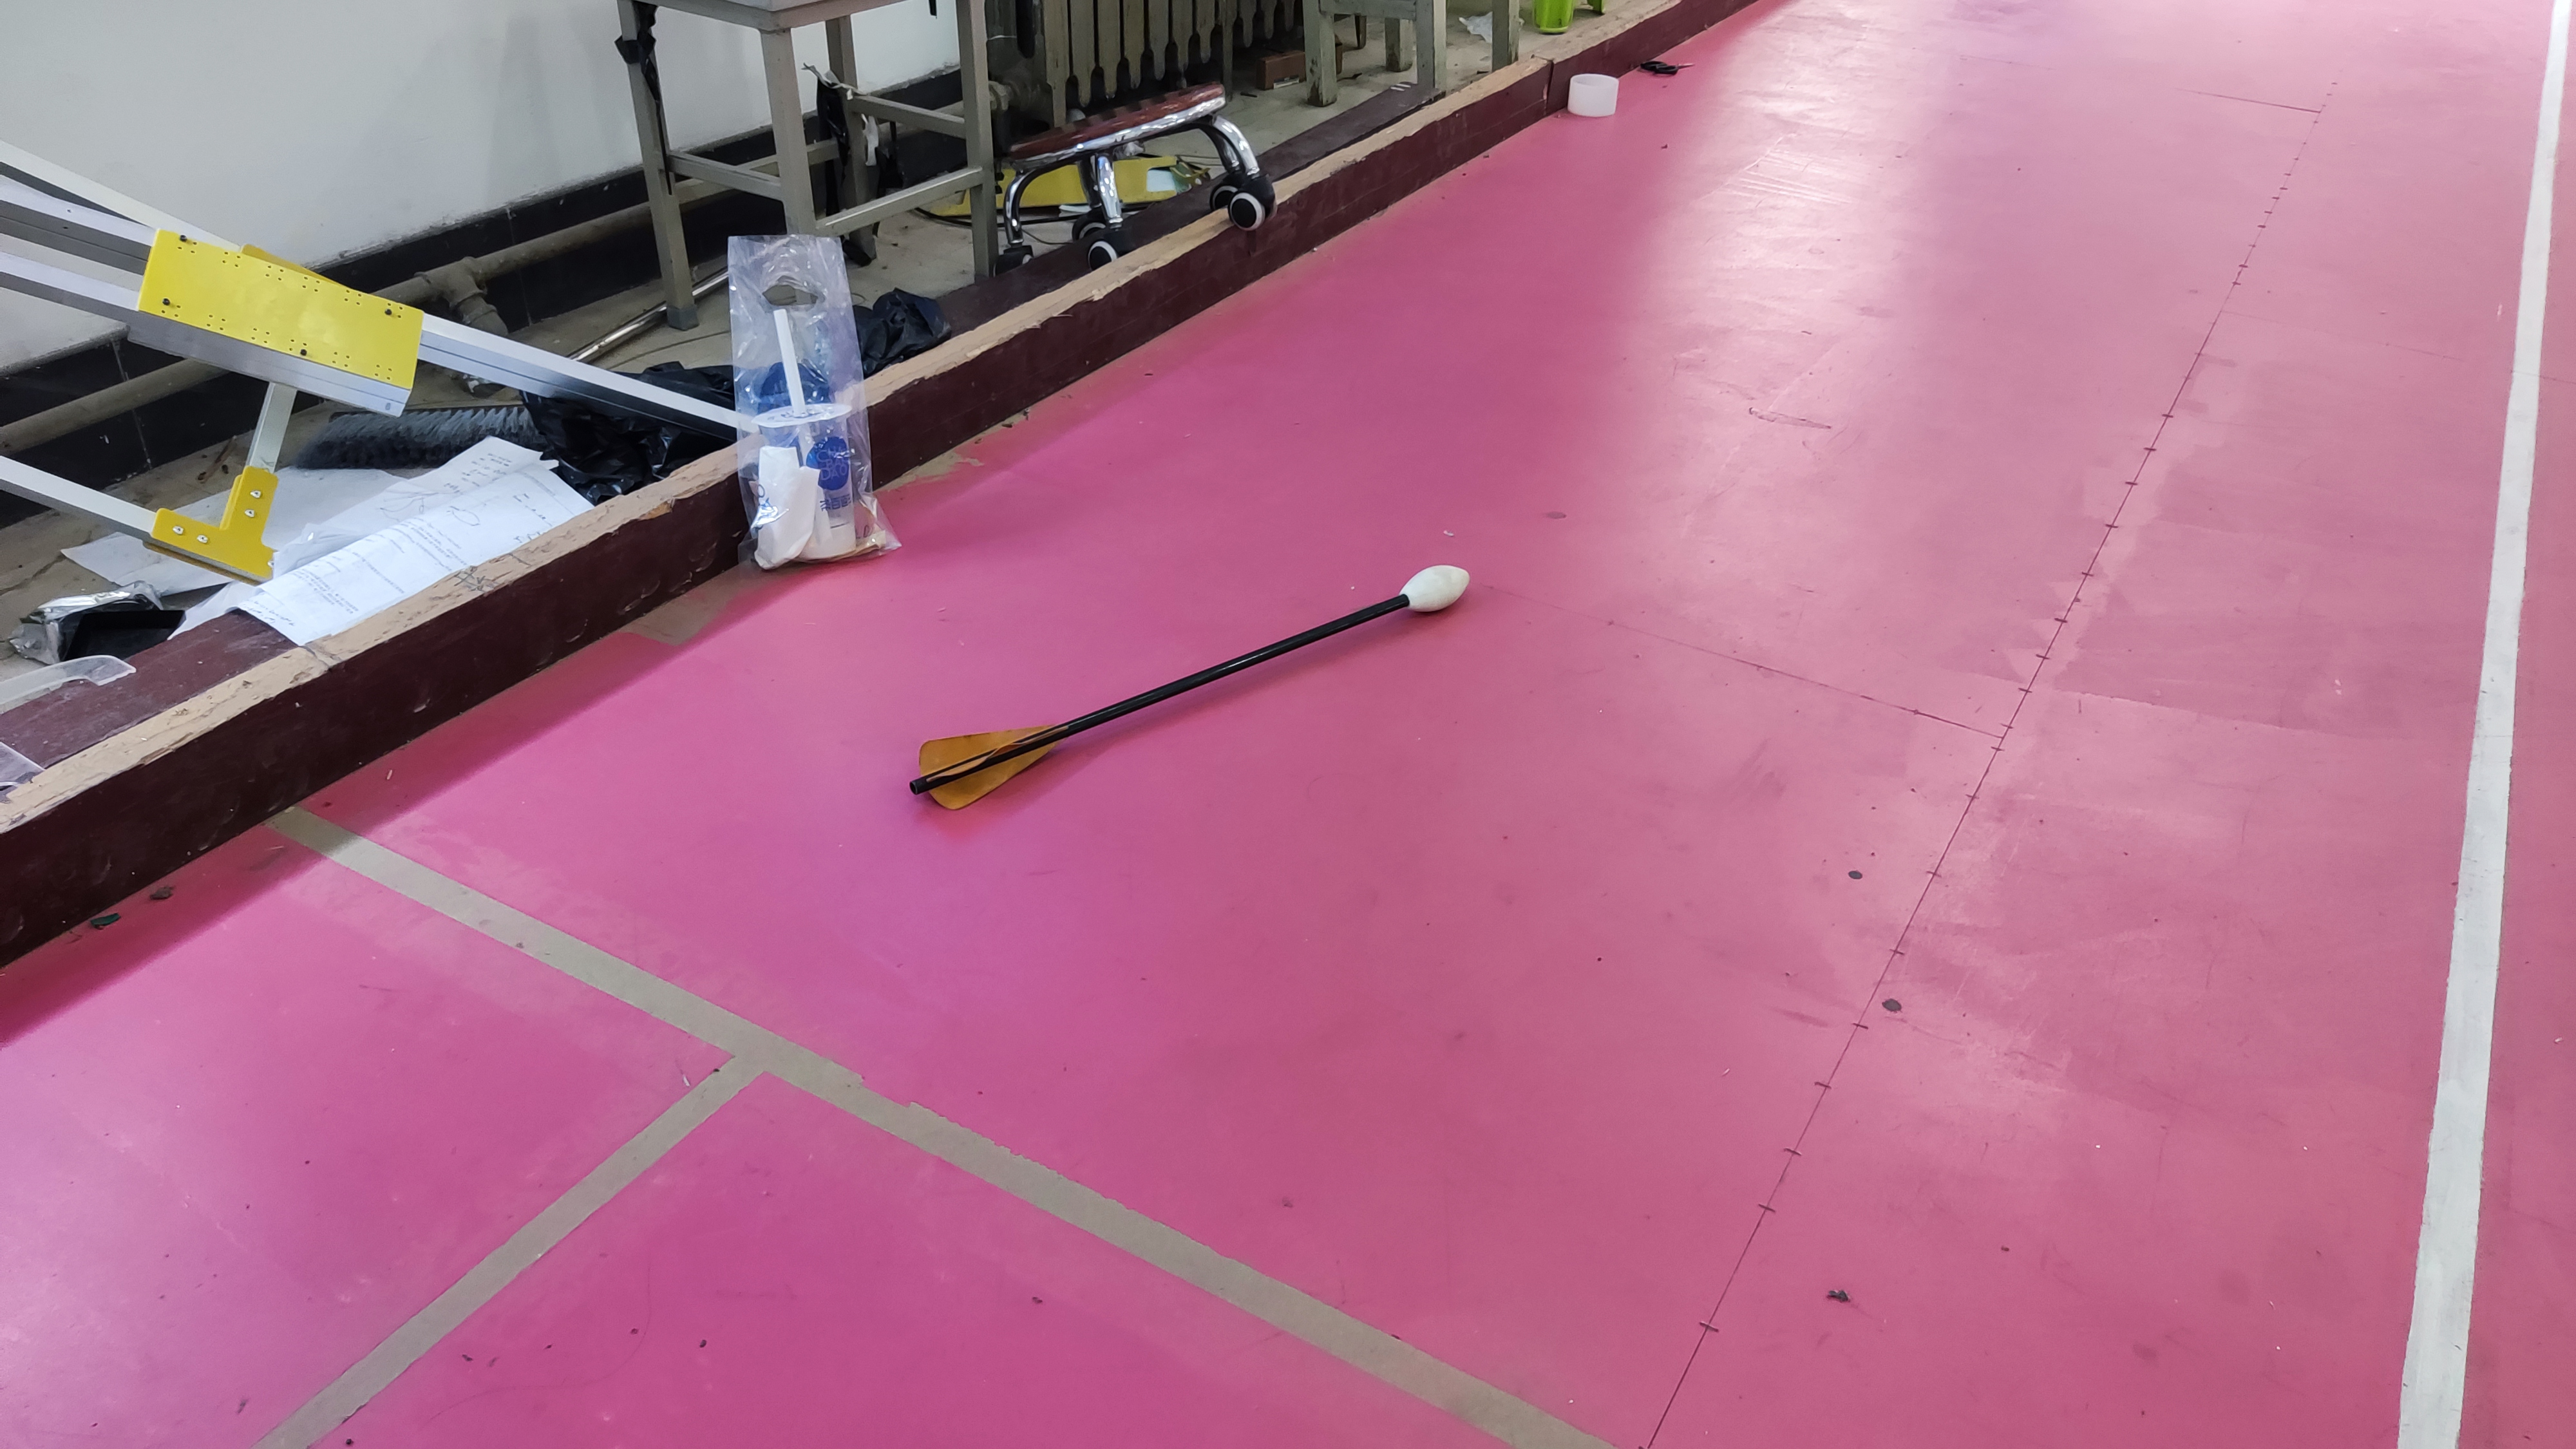arrow: (909, 561, 1479, 812)
arrowFront: (1396, 559, 1477, 621)
